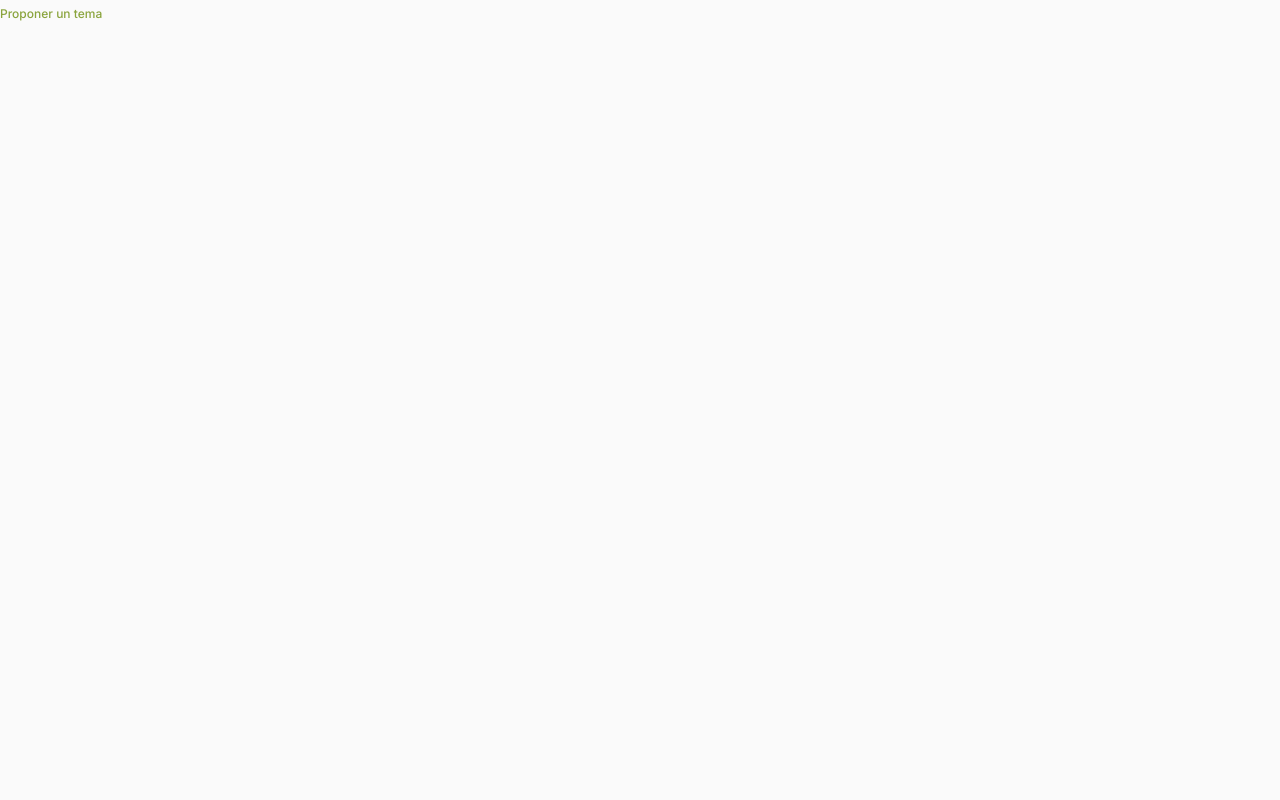
it: blocks unconfigured backend and never substitutes demo storage
The image size is (1280, 800).
Click the button "Proponer un tema" at (51, 14), box [0, 0, 102, 28]
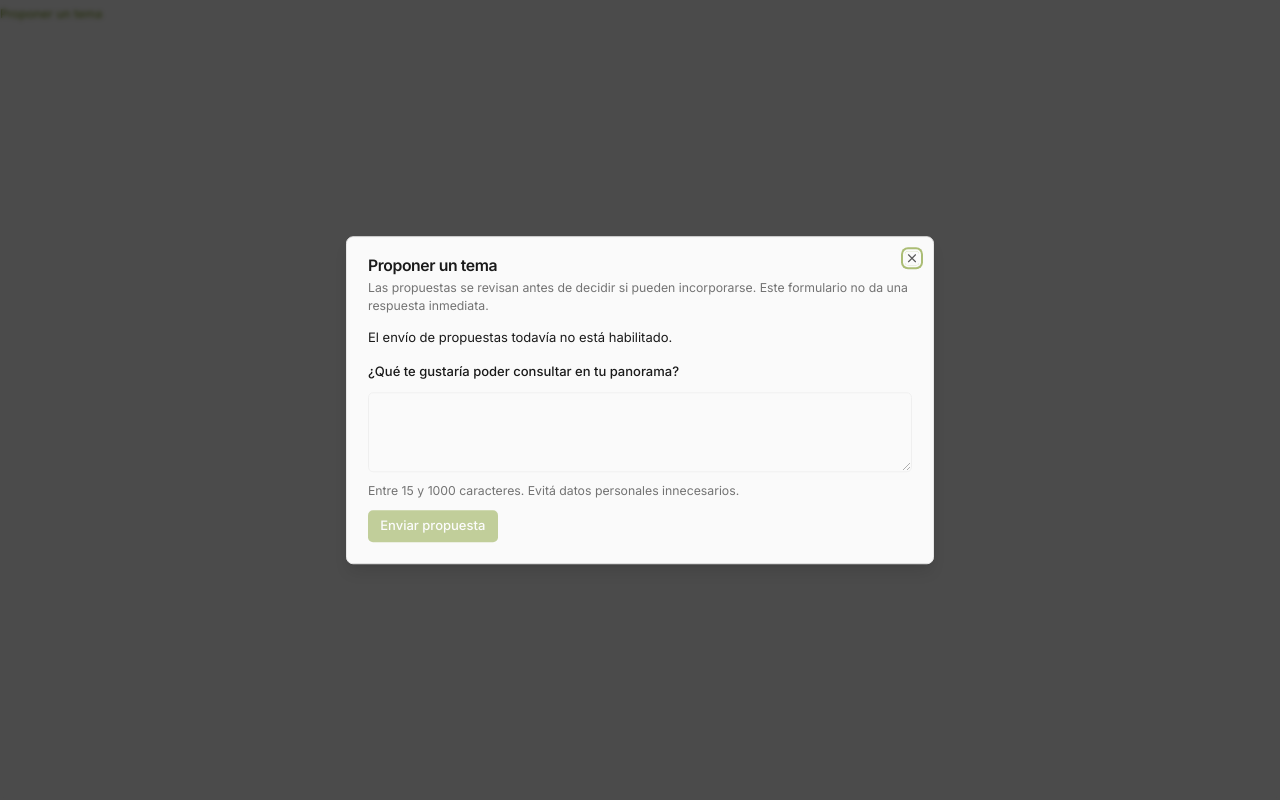
expect the text "El envío de propuestas todavía no está habilitado." is shown: met, box [368, 329, 672, 345]
expect the button "Enviar propuesta" is disabled: met, box [368, 510, 498, 542]
